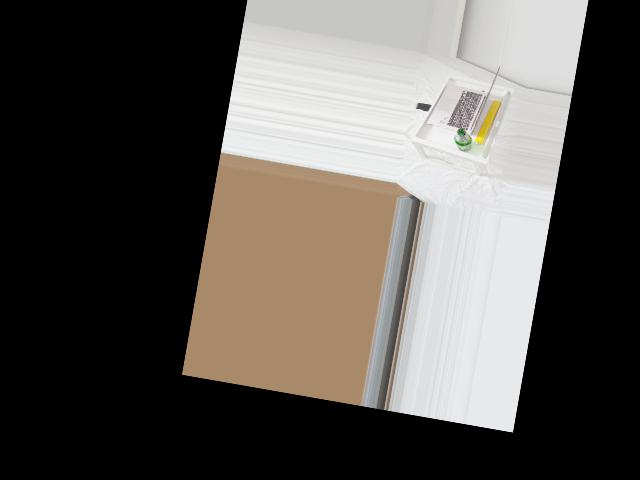beer: (452, 128, 474, 153)
